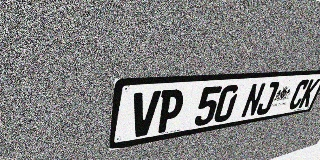0: (212, 85, 240, 123)
5: (193, 86, 222, 127)
C: (287, 79, 310, 110)
J: (255, 82, 280, 116)
K: (298, 78, 320, 108)
N: (240, 83, 266, 118)
P: (155, 89, 186, 134)
V: (129, 90, 161, 138)
